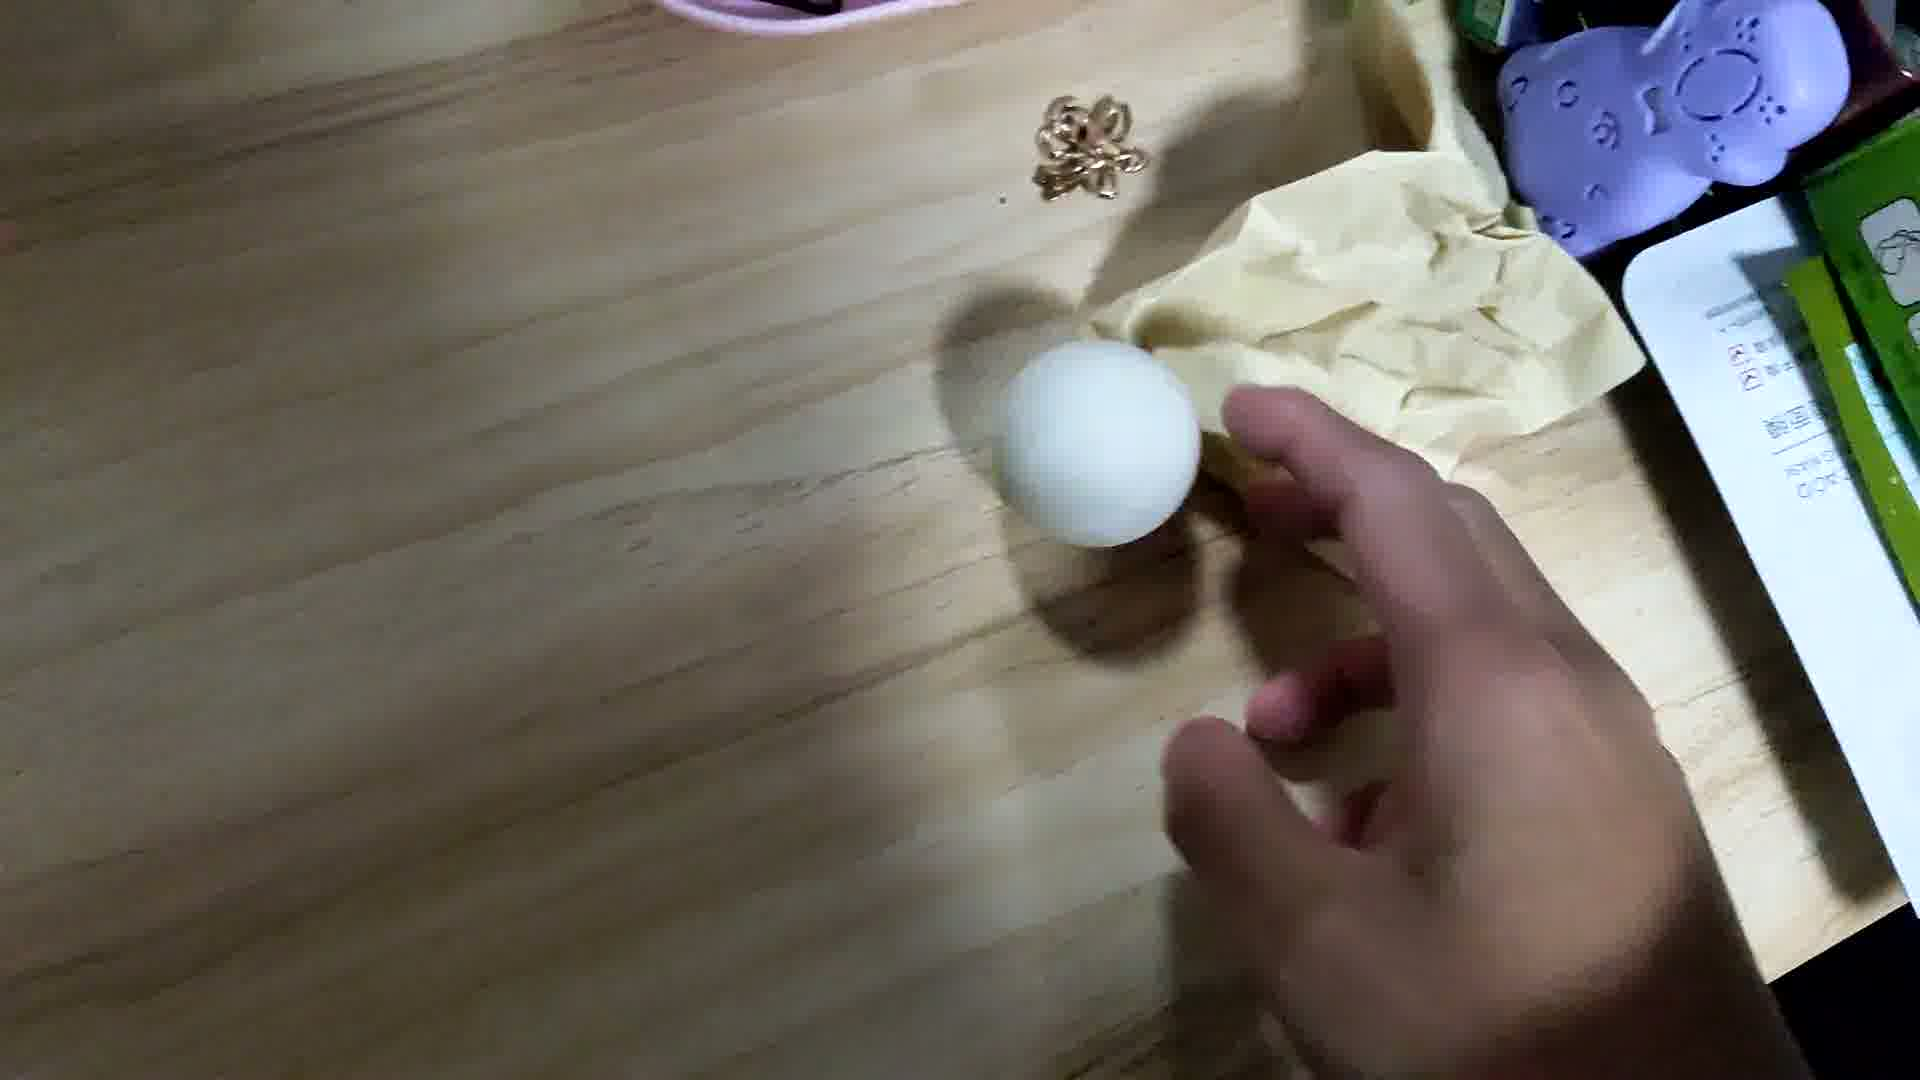Ball: (1006, 348, 1207, 542)
